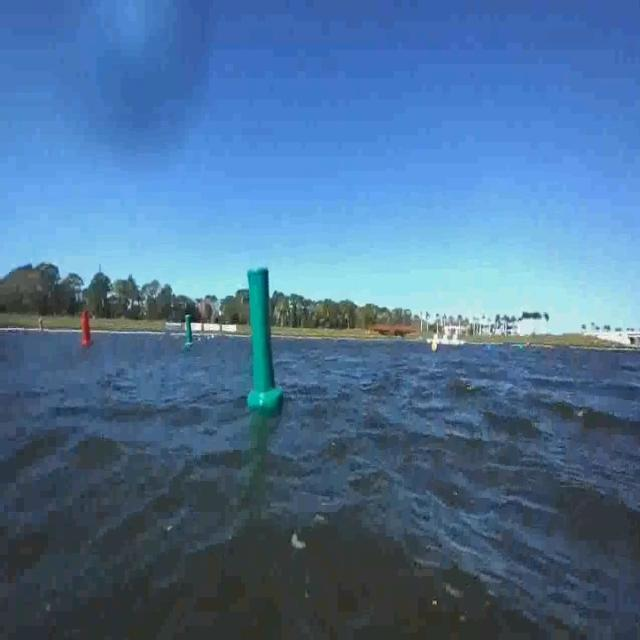green-column-buoy: (248, 262, 283, 412), (184, 316, 193, 348)
red-column-buoy: (80, 313, 92, 349)
yellow-buoy: (431, 341, 438, 355)
